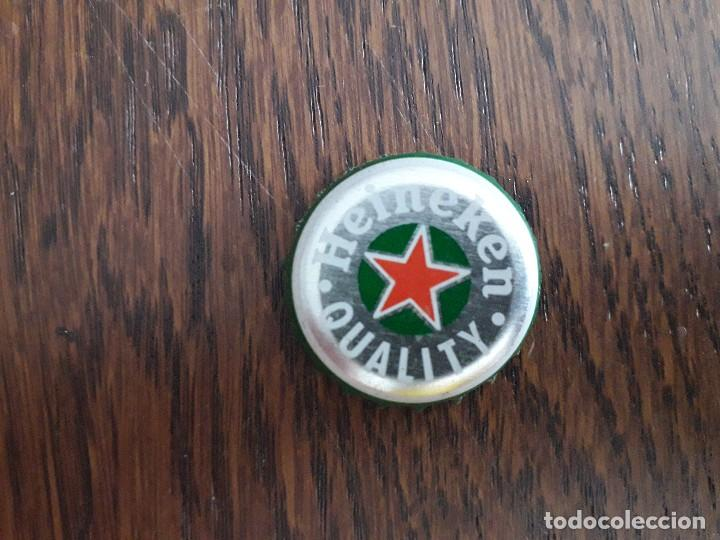heineken: (280, 145, 547, 410)
